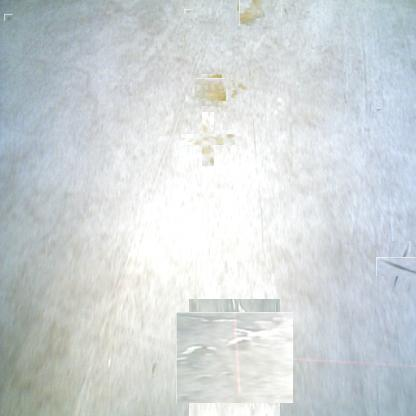liquid: (183, 306, 286, 410), (191, 122, 225, 156), (197, 76, 224, 104), (238, 0, 263, 25), (226, 78, 242, 94)
mark: (383, 249, 416, 284), (150, 362, 158, 376), (281, 5, 288, 17), (376, 105, 384, 113), (5, 14, 12, 21), (185, 8, 192, 15)
